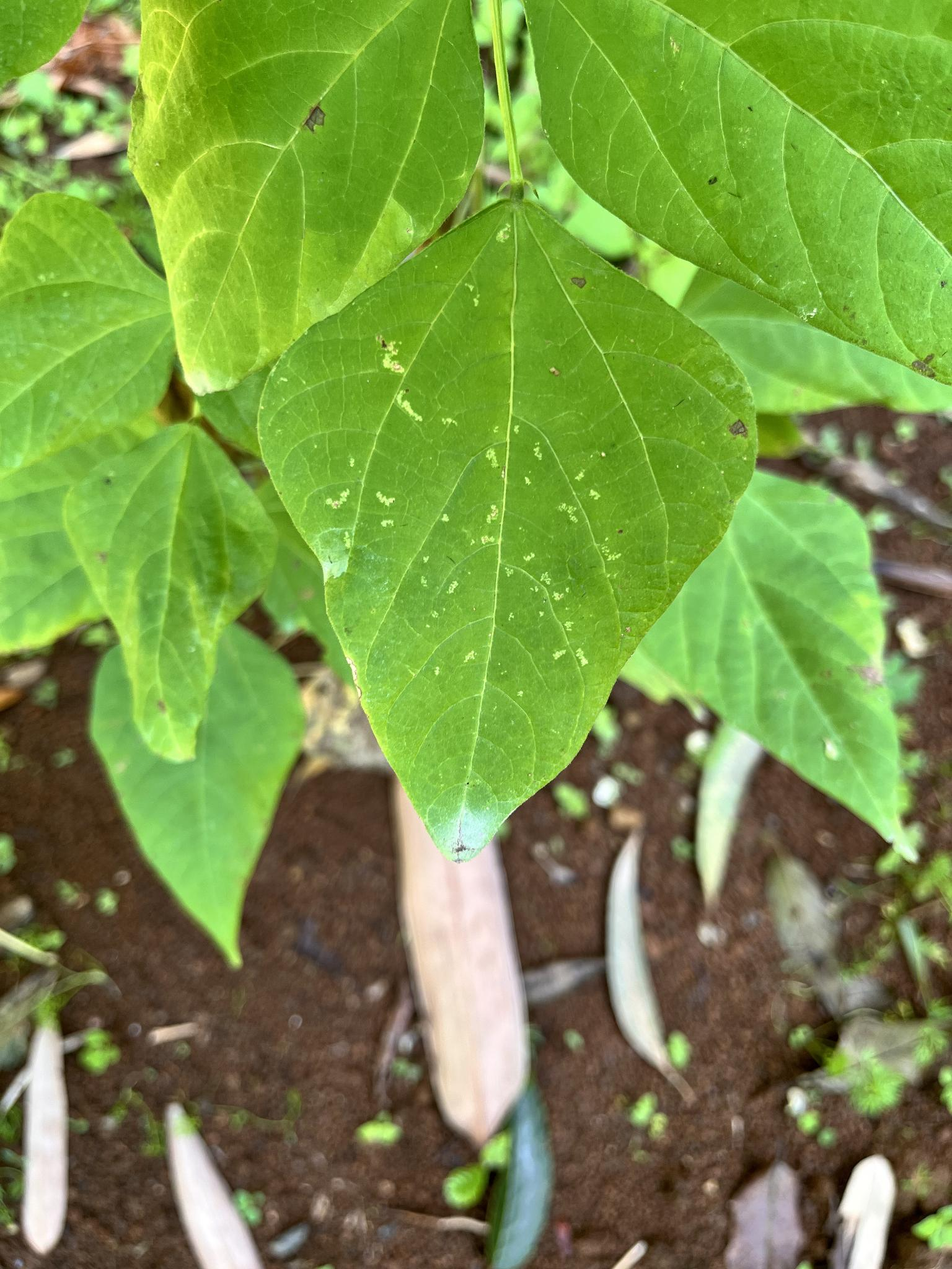embun tepung: (427, 797, 524, 868)
